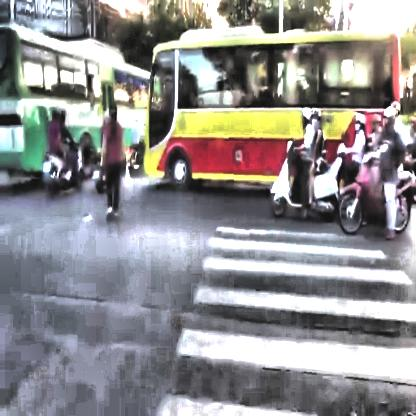not_wear: (108, 101, 120, 124)
wear: (384, 106, 398, 133), (354, 112, 367, 134), (301, 106, 312, 126)
